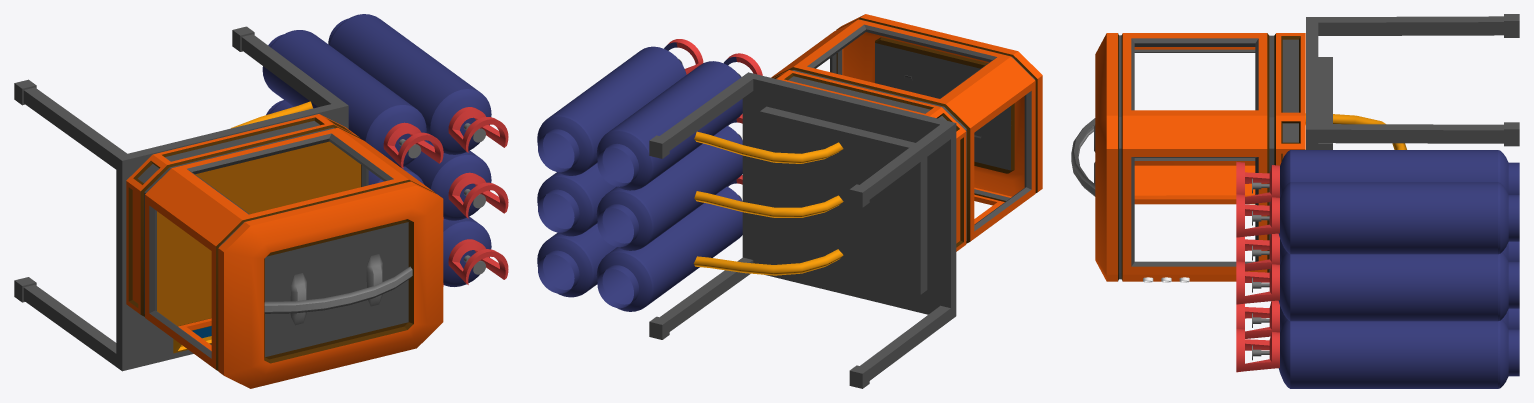
Rendered from MoxieContainer.fbx.
The picture shows the model from 3 angles, left to right: view 1: azimuth 30°, elevation 25°; view 2: azimuth 150°, elevation 25°; view 3: azimuth 270°, elevation 25°; orthographic projection. The views are drawn at different scales.
Parts seen in each view (by area): view 1: MoxieContainer, Moxie ContainerTable, OxygenContainer06, OxygenContainer05, OxygenContainer04, OxygenContainer03, OxygenContainer02, OxygenTube01; view 2: Moxie ContainerTable, MoxieContainer, OxygenContainer06, OxygenContainer05, OxygenContainer01, OxygenContainer02, OxygenContainer03, OxygenContainer04, OxygenTube02, OxygenTube03, OxygenTube01; view 3: MoxieContainer, OxygenContainer06, OxygenContainer03, OxygenContainer04, Moxie ContainerTable, OxygenContainer05, OxygenContainer01, OxygenContainer02, OxygenTube01.
Boxes of the visible parts, x1,y1,x2,y2 form: MoxieContainer: [126, 114, 443, 388]; Moxie ContainerTable: [14, 26, 348, 371]; OxygenContainer06: [328, 14, 508, 154]; OxygenContainer05: [262, 30, 443, 168]; OxygenContainer04: [405, 140, 508, 220]; OxygenContainer03: [443, 216, 508, 286]; OxygenContainer02: [266, 100, 443, 219]; OxygenTube01: [231, 101, 312, 128]; Moxie ContainerTable: [649, 72, 956, 388]; MoxieContainer: [771, 14, 1042, 251]; OxygenContainer06: [537, 39, 703, 175]; OxygenContainer05: [596, 53, 762, 190]; OxygenContainer01: [596, 175, 742, 311]; OxygenContainer02: [596, 114, 742, 250]; OxygenContainer03: [537, 223, 616, 297]; OxygenContainer04: [537, 163, 616, 236]; OxygenTube02: [693, 249, 843, 275]; OxygenTube03: [694, 191, 843, 217]; OxygenTube01: [694, 131, 843, 163]; MoxieContainer: [1071, 33, 1305, 282]; OxygenContainer06: [1236, 182, 1519, 254]; OxygenContainer03: [1236, 319, 1519, 388]; OxygenContainer04: [1236, 252, 1519, 321]; Moxie ContainerTable: [1306, 14, 1519, 149]; OxygenContainer05: [1236, 150, 1519, 204]; OxygenContainer01: [1236, 300, 1519, 338]; OxygenContainer02: [1236, 233, 1519, 271]; OxygenTube01: [1305, 113, 1406, 149].
Bounding box in the file's own units: 539 × 302 × 564.
